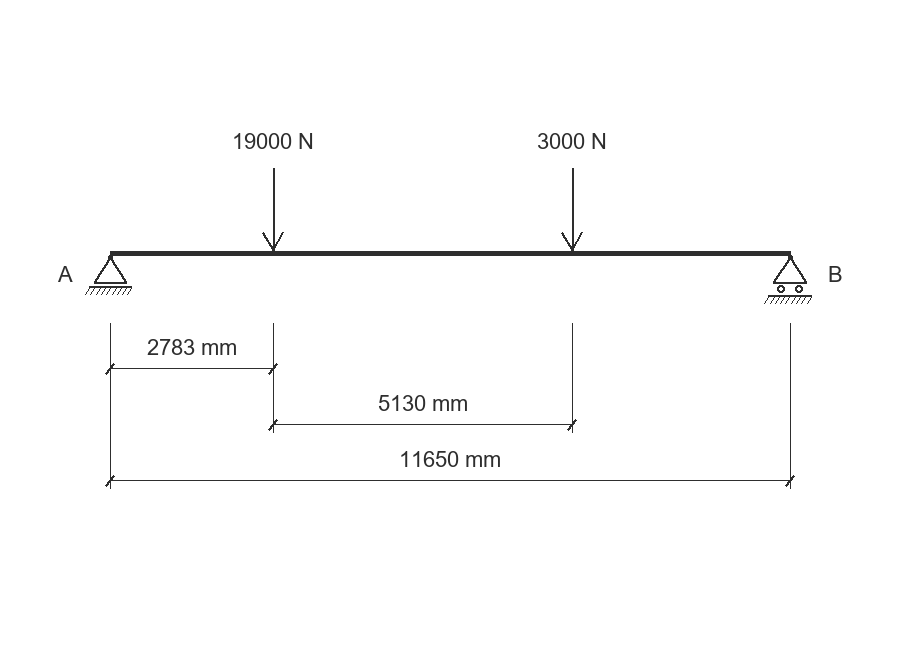pin_support: (85, 255, 132, 295)
point_load: (262, 168, 284, 252), (561, 168, 583, 252)
roller_support: (764, 255, 812, 304)
